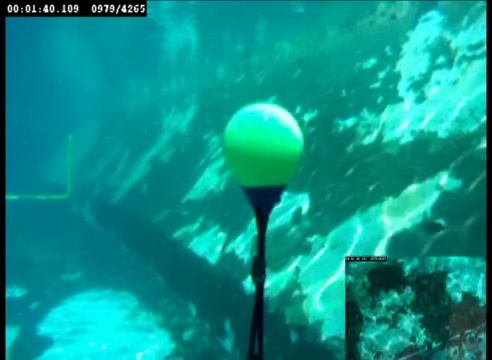buoy_green: (220, 99, 307, 207)
